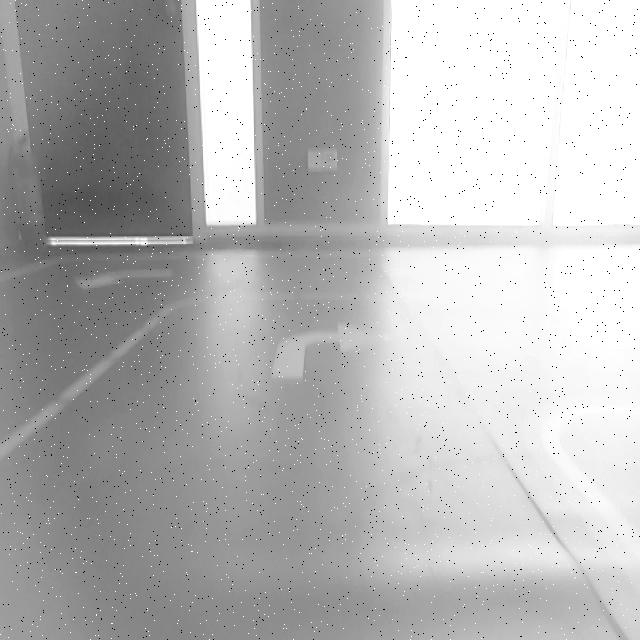left_lane: (0, 300, 182, 464), (528, 431, 640, 583)
